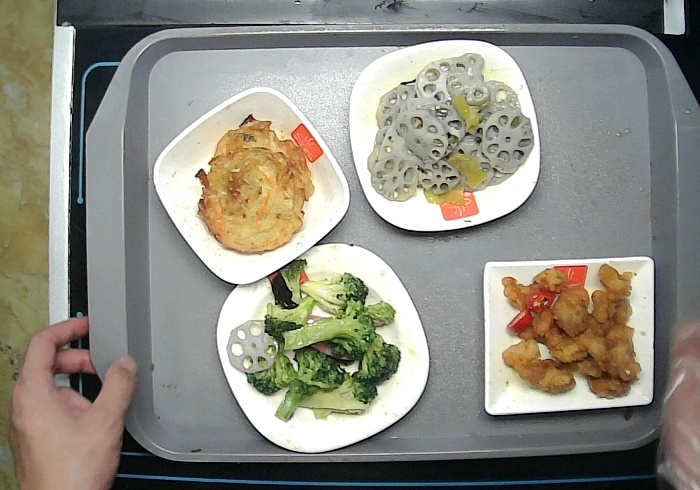SHKJ-Bai_Se_Cai_Die: (348, 38, 543, 234)
SHKJ-Bai_Se_Si_Fang_Cai_Die: (215, 242, 432, 453)
SHKJ-Bai_Se_Xiao_Fang_Die: (151, 85, 352, 285)
SHKJ-Si_Fang_Min: (482, 254, 660, 416)
